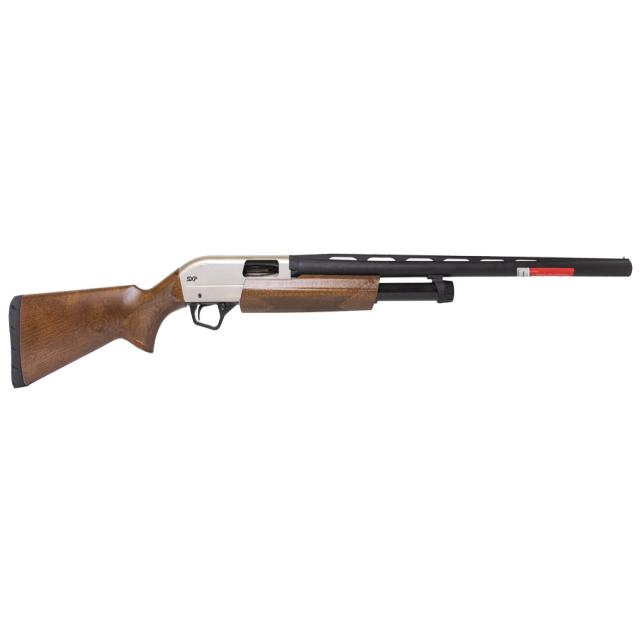ShotGun: (9, 254, 635, 389)
